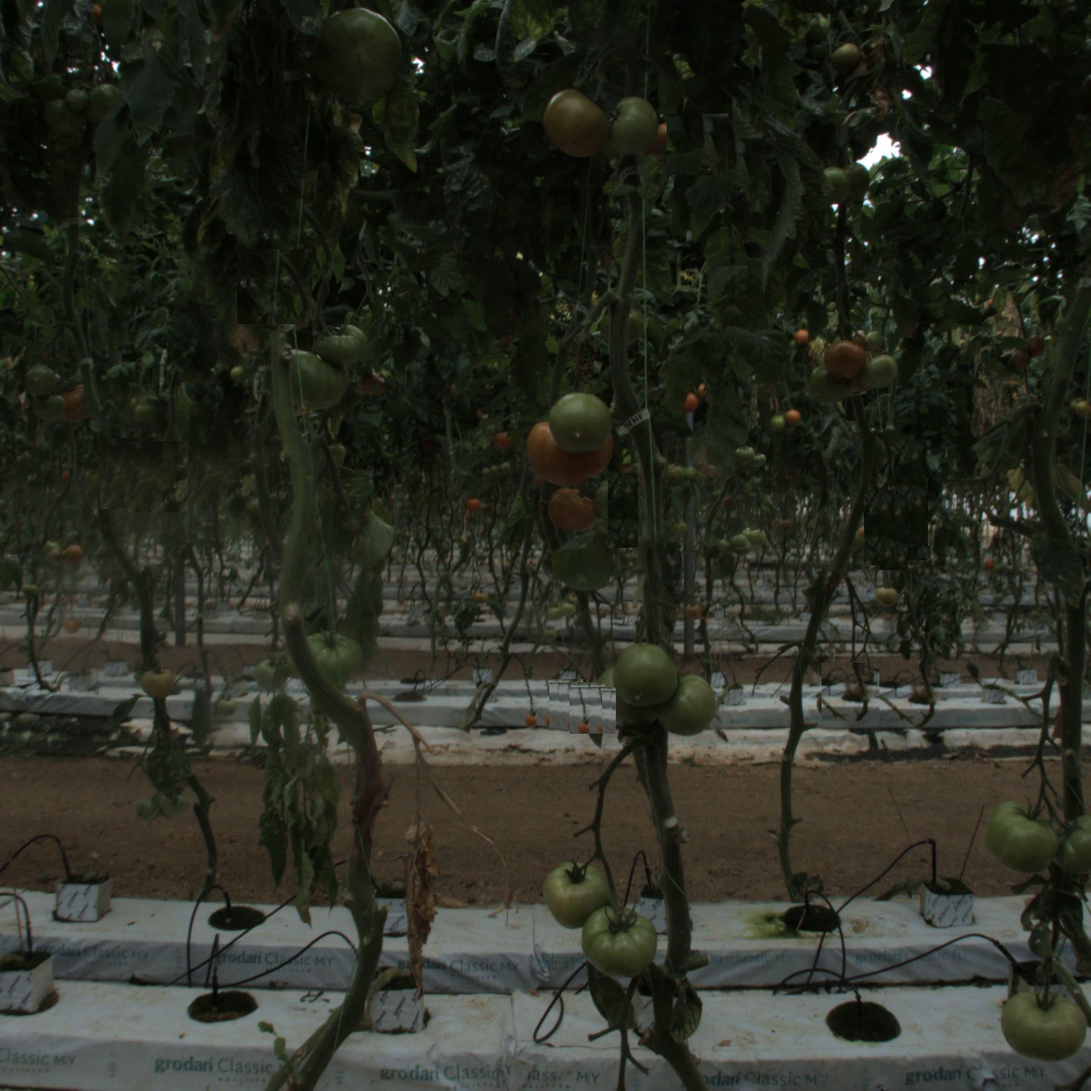fully-ripe: (530, 400, 613, 483), (551, 485, 599, 533), (825, 339, 868, 382)
semi-ripe: (546, 91, 611, 156)
unripe: (311, 8, 403, 99), (1003, 980, 1086, 1063), (276, 337, 350, 411), (985, 796, 1059, 870), (583, 901, 657, 975), (542, 859, 608, 925), (651, 670, 716, 736), (612, 643, 677, 709), (550, 392, 613, 454), (551, 540, 612, 601), (304, 629, 361, 686), (602, 100, 658, 157), (320, 317, 368, 365), (861, 356, 898, 393)
